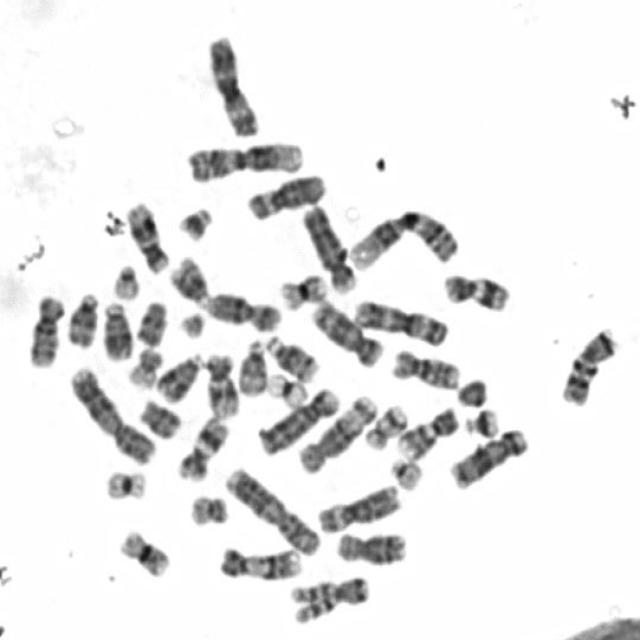A1: (347, 202, 460, 271), (182, 135, 306, 183)
A2: (64, 358, 160, 466), (219, 460, 323, 558)
A3: (200, 27, 261, 138), (349, 293, 451, 347)
B4: (252, 380, 342, 458), (298, 197, 360, 295)
B5: (445, 421, 532, 491), (306, 293, 386, 369)
C10: (387, 342, 462, 392), (24, 288, 66, 370)
C11: (171, 411, 232, 483), (438, 267, 511, 313)
C12: (121, 196, 170, 275), (201, 349, 244, 420)
C6: (312, 477, 402, 535), (243, 166, 330, 222)
C7: (555, 321, 620, 407), (288, 569, 372, 623)
C8: (291, 389, 376, 471), (332, 524, 409, 566)
C9: (392, 400, 462, 460), (214, 540, 305, 582)
D13: (152, 346, 205, 405), (98, 296, 136, 362)
D14: (261, 328, 322, 383), (169, 252, 212, 307)
D15: (62, 286, 102, 350), (233, 333, 269, 397)
E16: (114, 523, 172, 579), (273, 266, 330, 312)
E17: (358, 398, 409, 452), (178, 313, 208, 345)
E18: (134, 392, 184, 440), (130, 296, 169, 348)
F19: (263, 366, 311, 410), (98, 463, 150, 501)
F20: (122, 342, 164, 391), (184, 489, 232, 528)
G21: (172, 200, 216, 243), (459, 401, 503, 439)
G22: (386, 452, 426, 492), (108, 258, 142, 302)
X: (204, 286, 285, 332)
Y: (450, 372, 490, 408)
